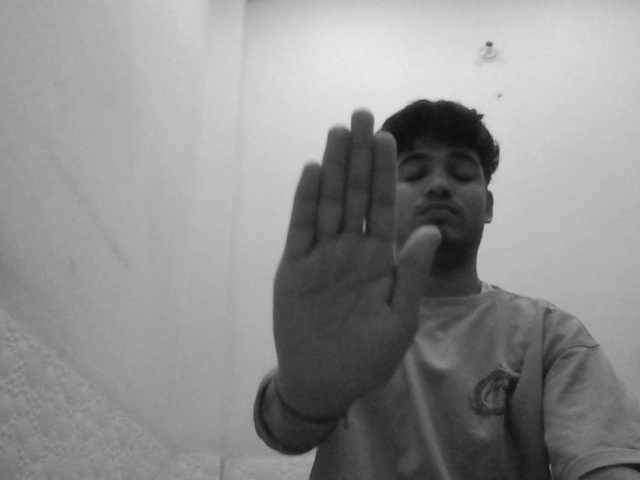Stop: (269, 96, 440, 413)
